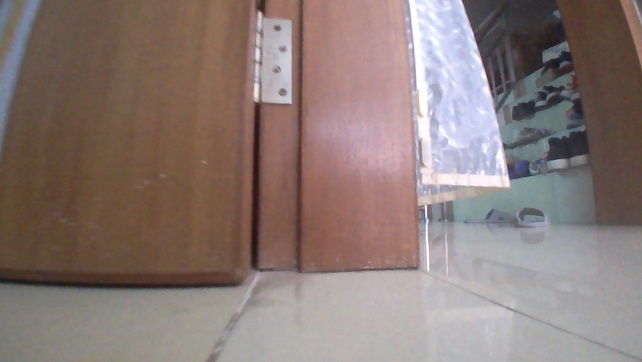slipper: (462, 205, 520, 225), (511, 205, 554, 229)
